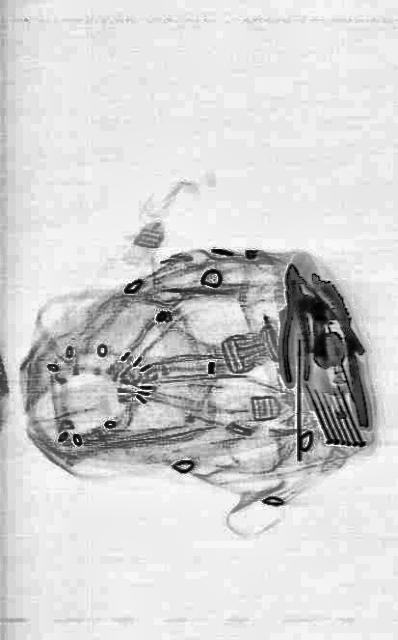Pliers: (278, 260, 312, 384)
